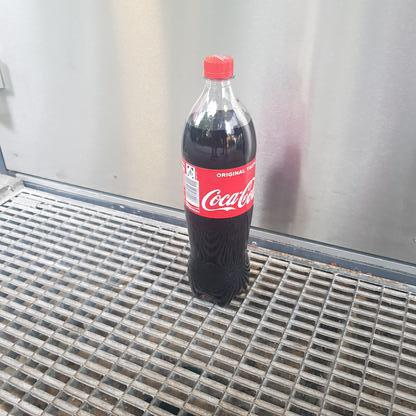coca-cola: (179, 53, 258, 310)
